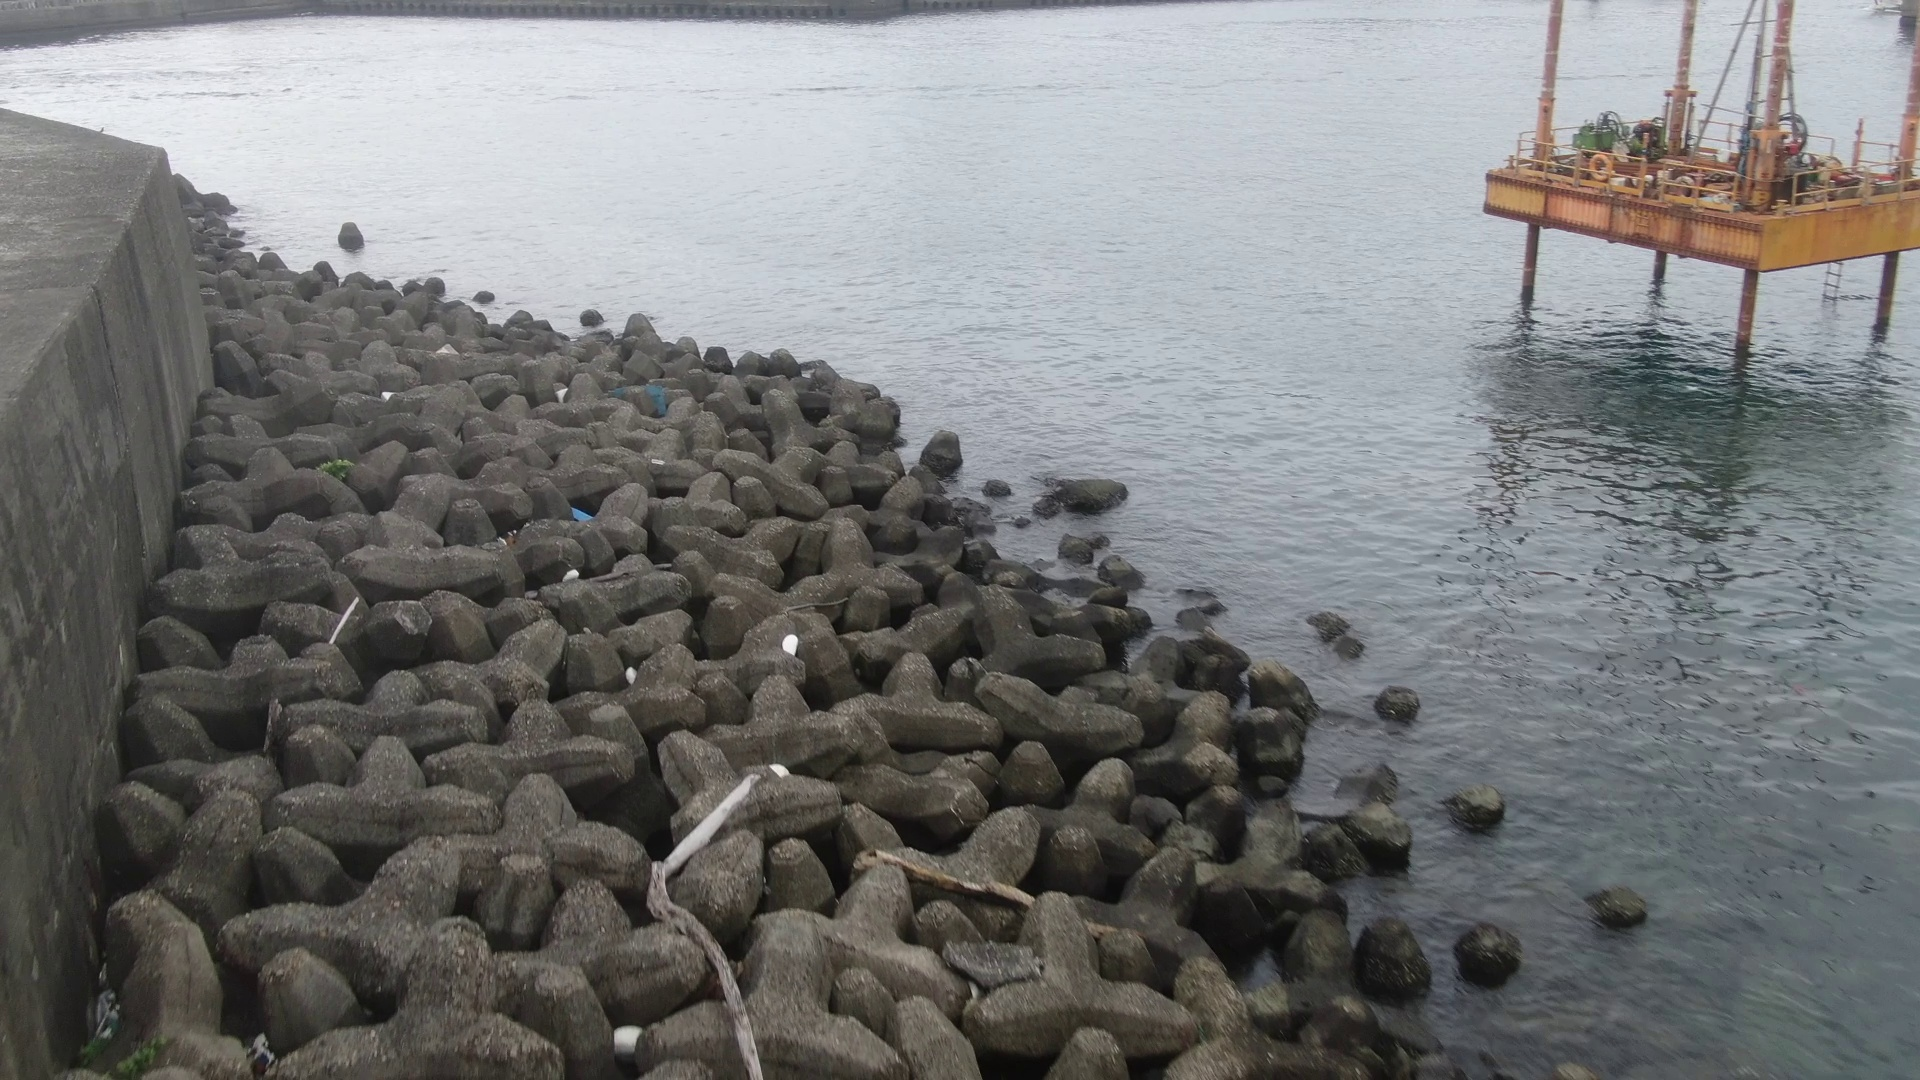garbage: (603, 1019, 655, 1060), (607, 385, 676, 413), (566, 501, 603, 535)
